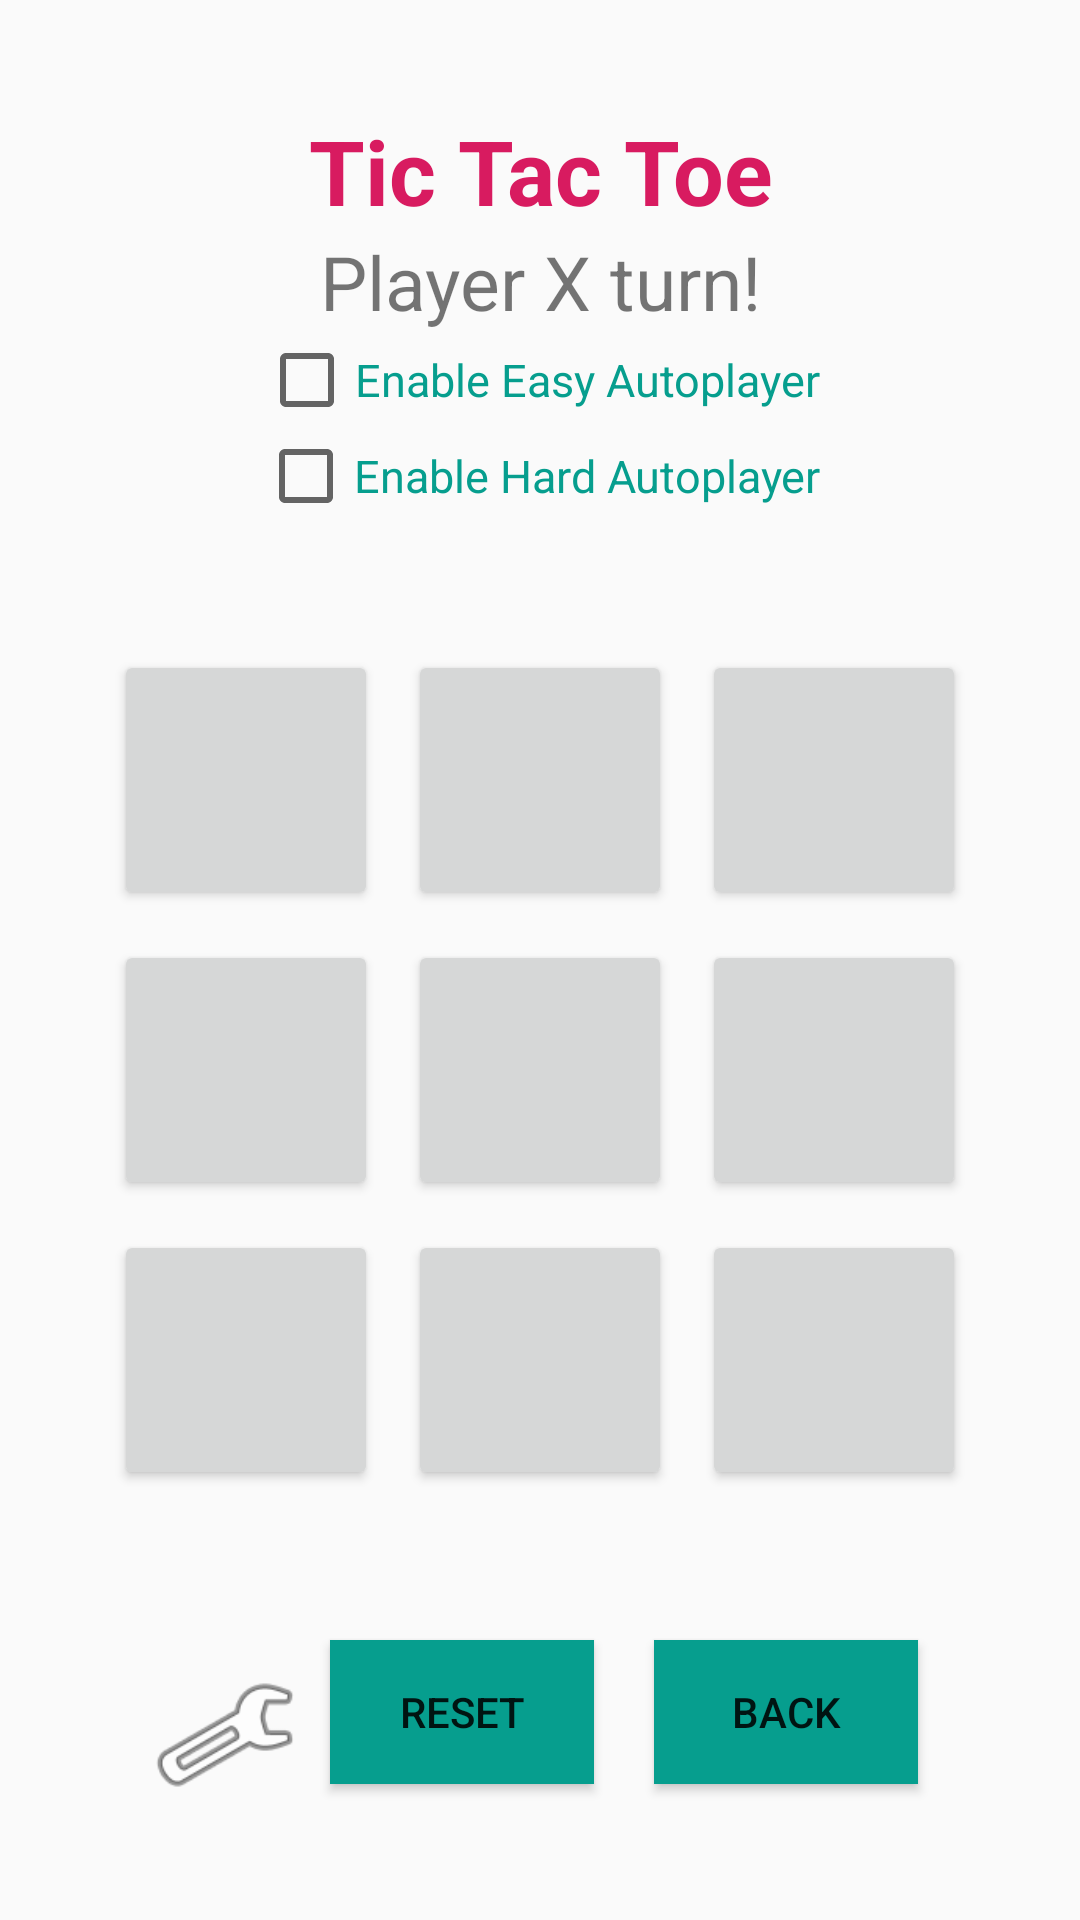

Where icons sit on this 1080px×1920px app screen, as (x1, y1, x2, y2):
Settings: (157, 1683, 293, 1787)
